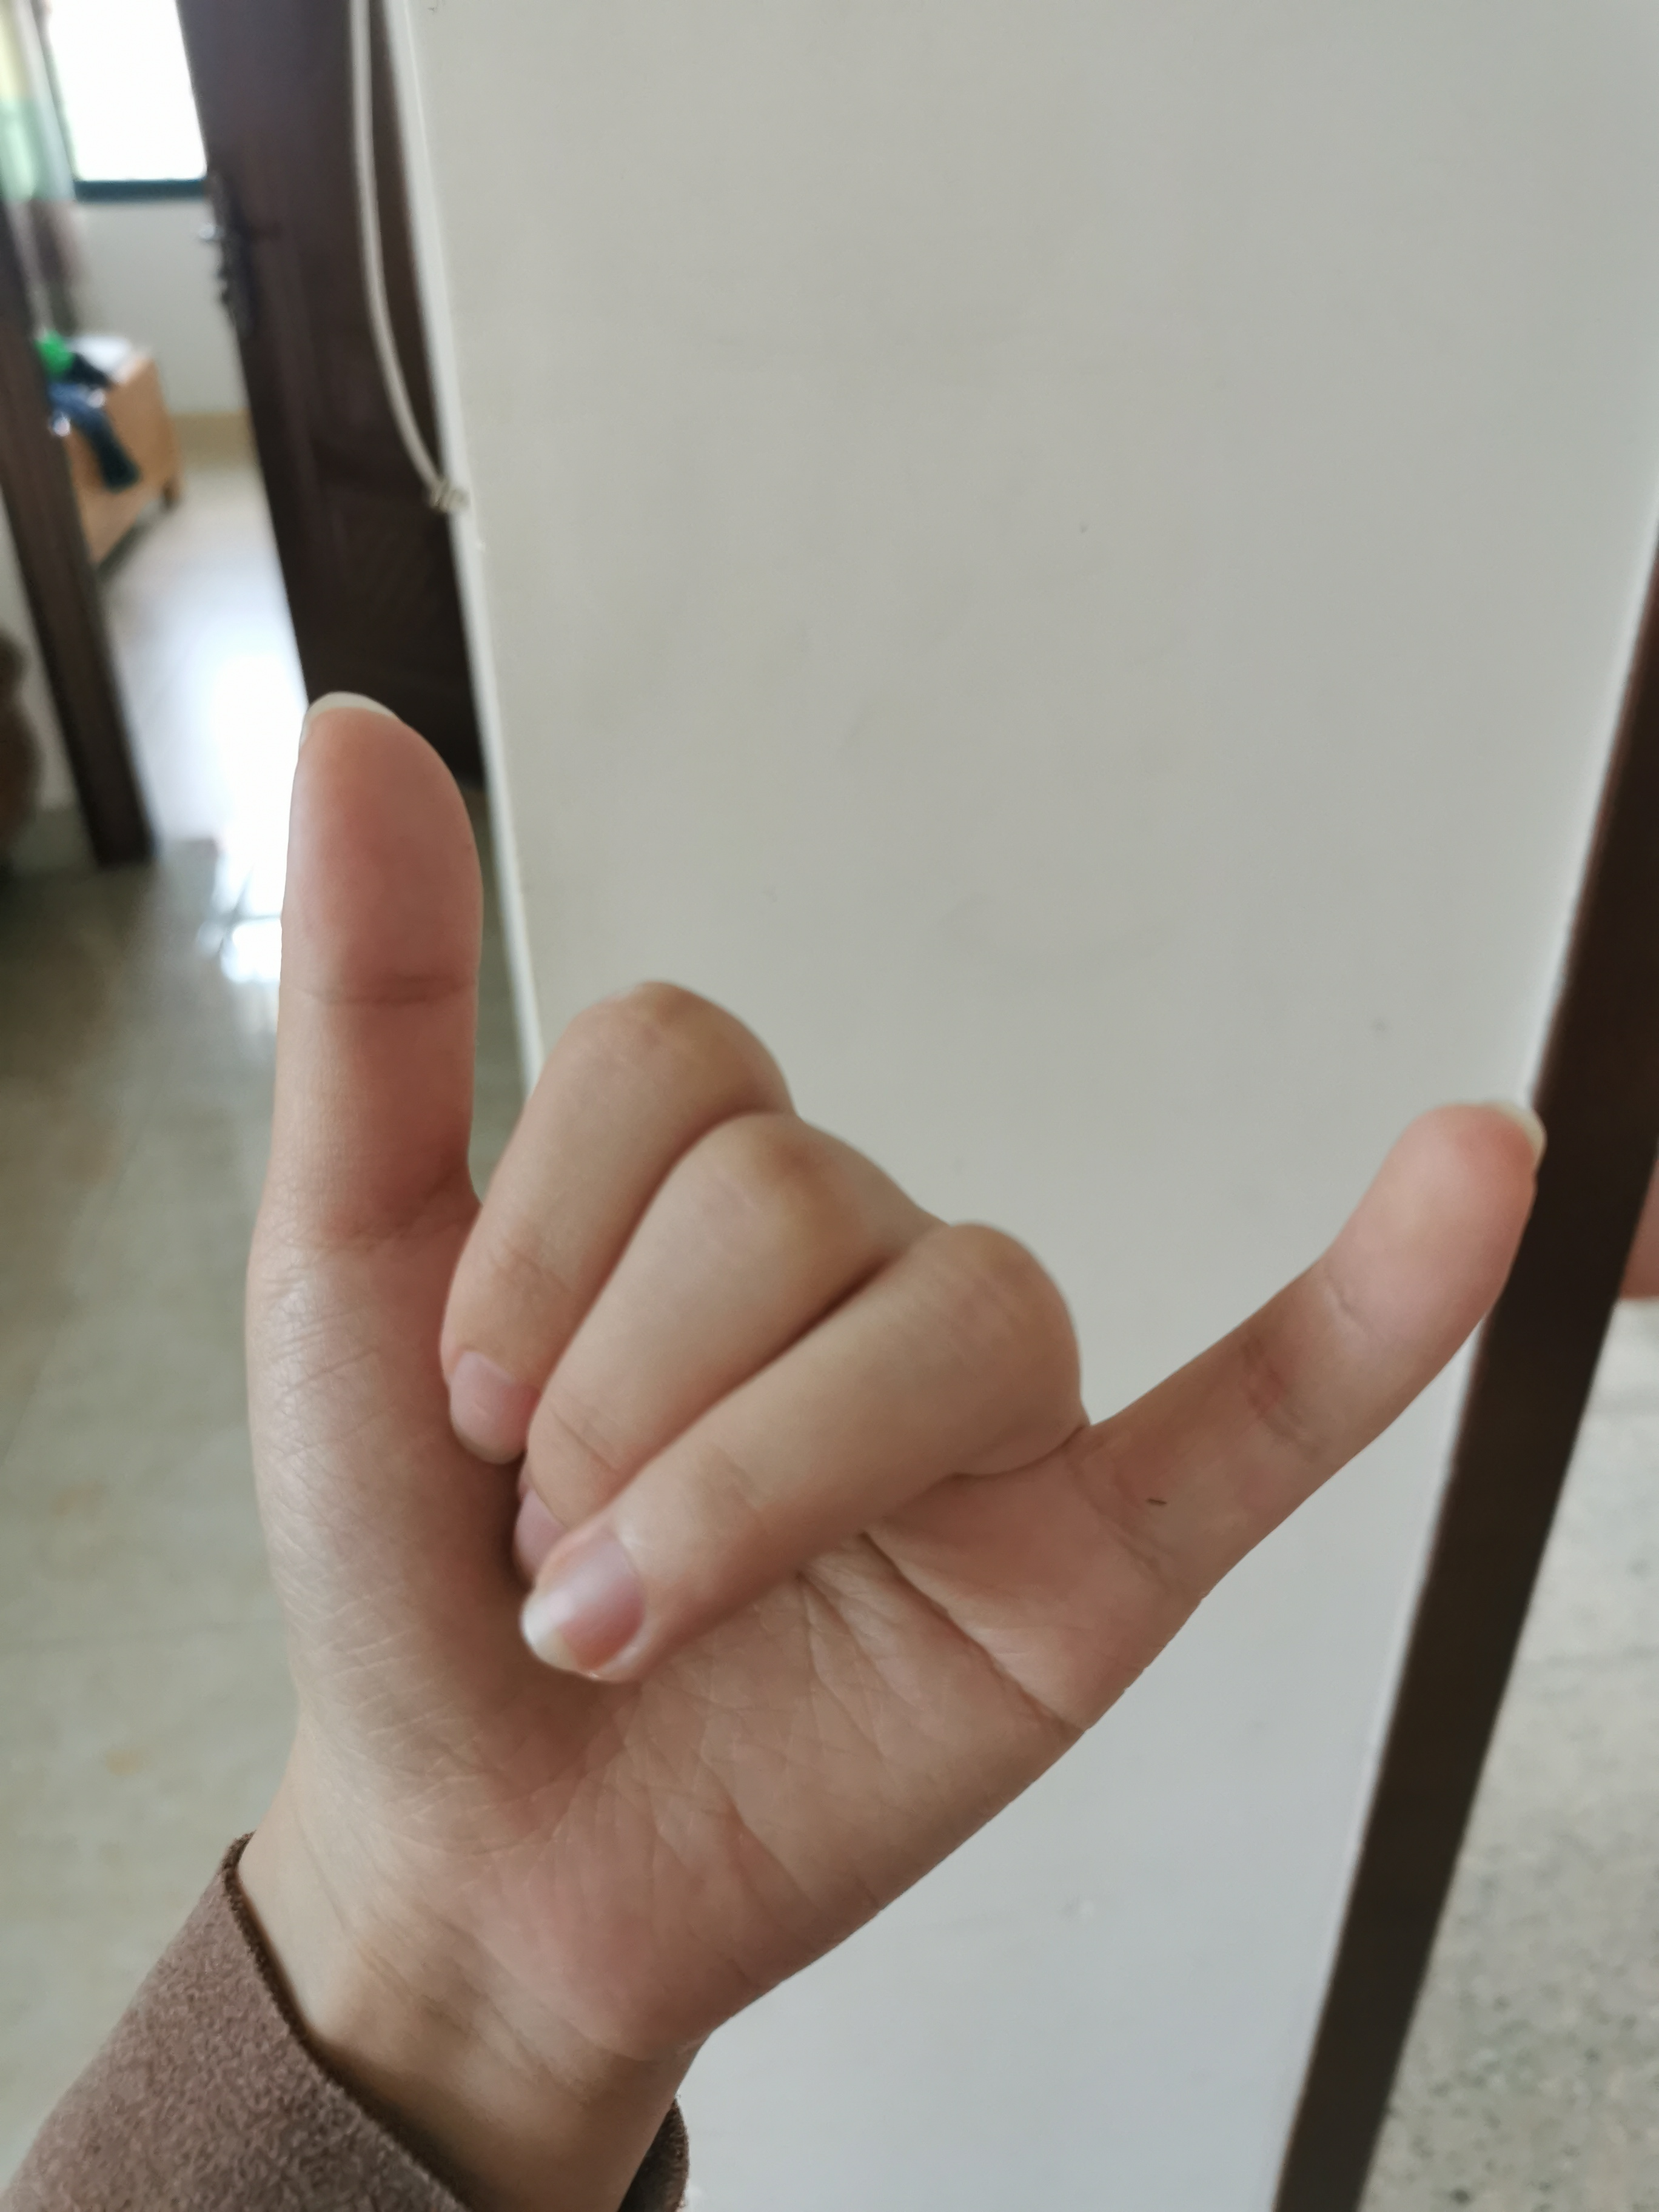clockwise: (232, 688, 1561, 1951)
